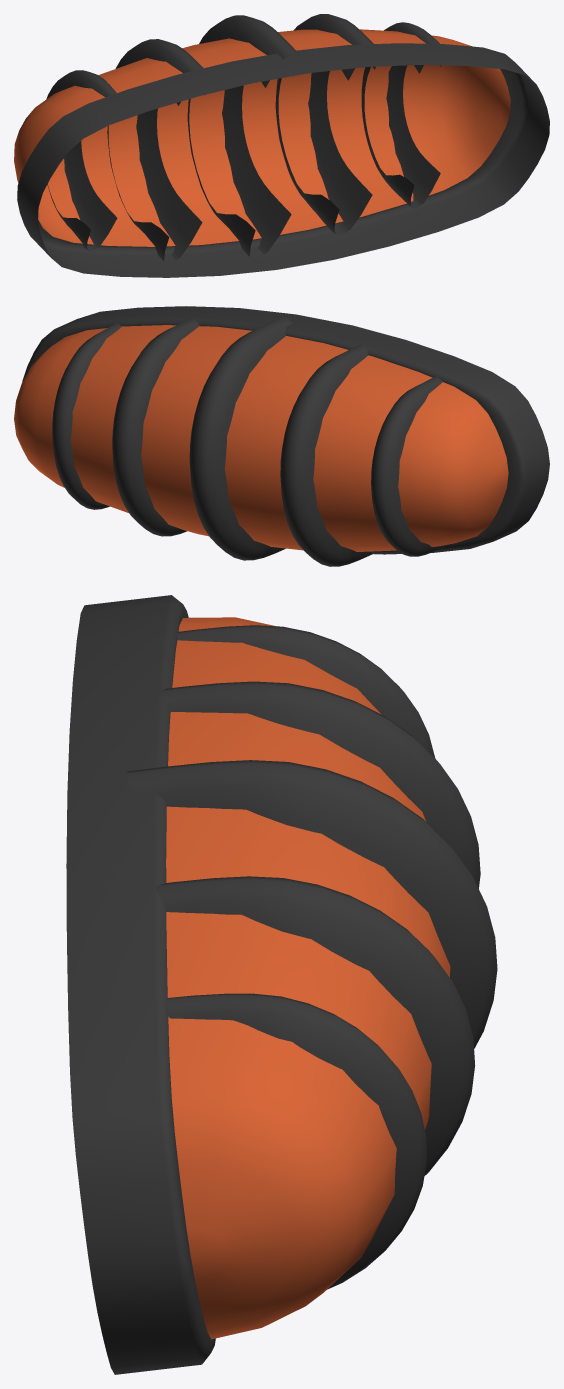
Rendered from SM_Wall_Light_02.fbx.
The picture shows the model from 3 angles, top to bottom: view 1: azimuth 30°, elevation 25°; view 2: azimuth 150°, elevation 25°; view 3: azimuth 270°, elevation 25°; orthographic projection. The views are drawn at different scales.
Visible parts, largest first — view 1: SM_Wall_Light_02_LOD0; view 2: SM_Wall_Light_02_LOD0; view 3: SM_Wall_Light_02_LOD0.
Part boxes in pixels (x1,y1,x2,y2): SM_Wall_Light_02_LOD0: [14, 14, 549, 277]; SM_Wall_Light_02_LOD0: [14, 306, 549, 566]; SM_Wall_Light_02_LOD0: [66, 595, 497, 1374].
Size of the model in its own units: 68.08 by 25 by 28.49.
